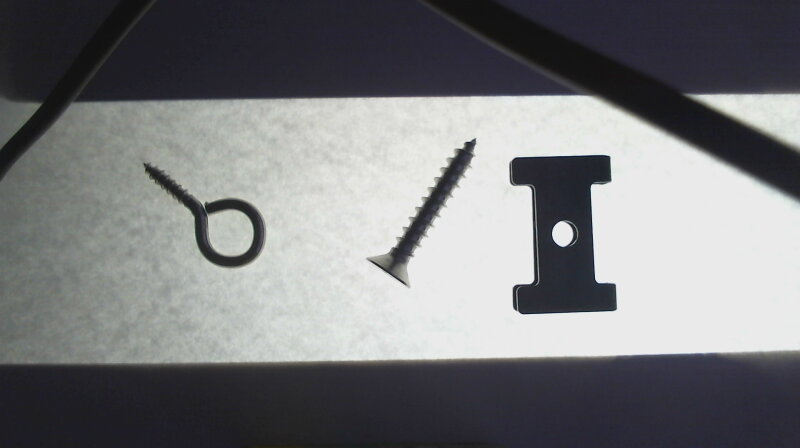O001: (139, 158, 267, 268)
O002: (508, 154, 620, 314)
S001: (366, 137, 476, 291)
